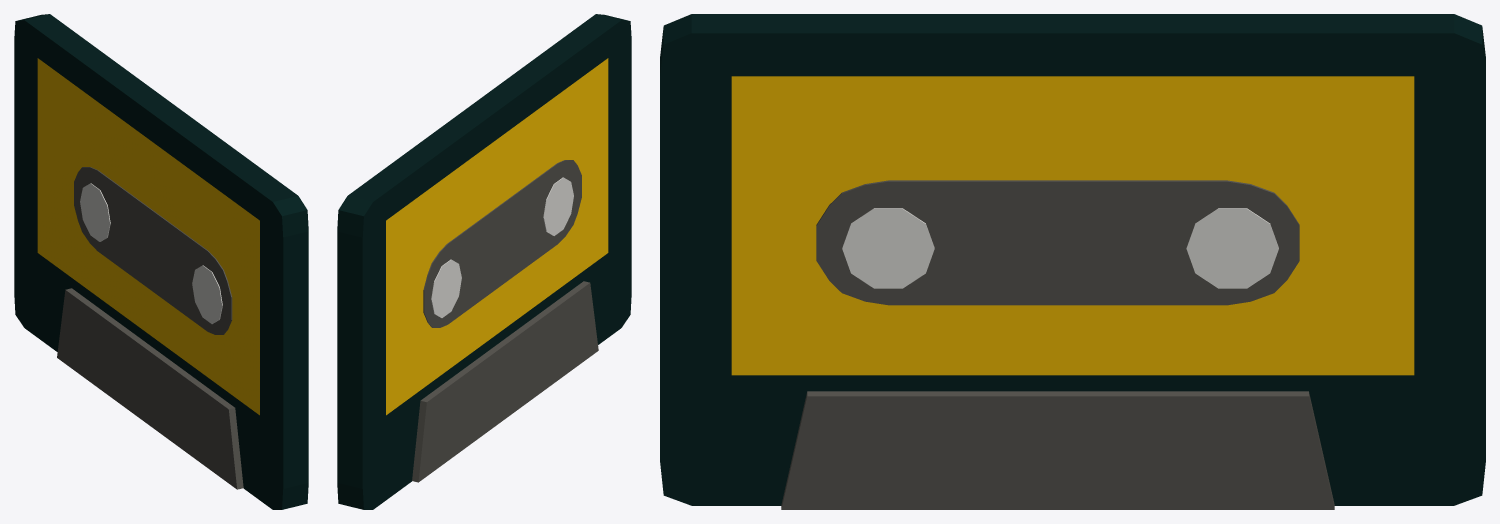
File: cassette-yellow.fbx
The picture shows the model from 3 angles, left to right: view 1: azimuth 30°, elevation 25°; view 2: azimuth 150°, elevation 25°; view 3: azimuth 270°, elevation 25°; orthographic projection. The views are drawn at different scales.
Visible parts, largest first — view 1: cassette.004; view 2: cassette.004; view 3: cassette.004.
Boxes of the visible parts, box(x1,y1,x2,y2) form: cassette.004: box(14, 14, 308, 509); cassette.004: box(337, 14, 631, 509); cassette.004: box(660, 14, 1485, 509).
Size of the model in its own units: 74.85 by 571 by 905.
